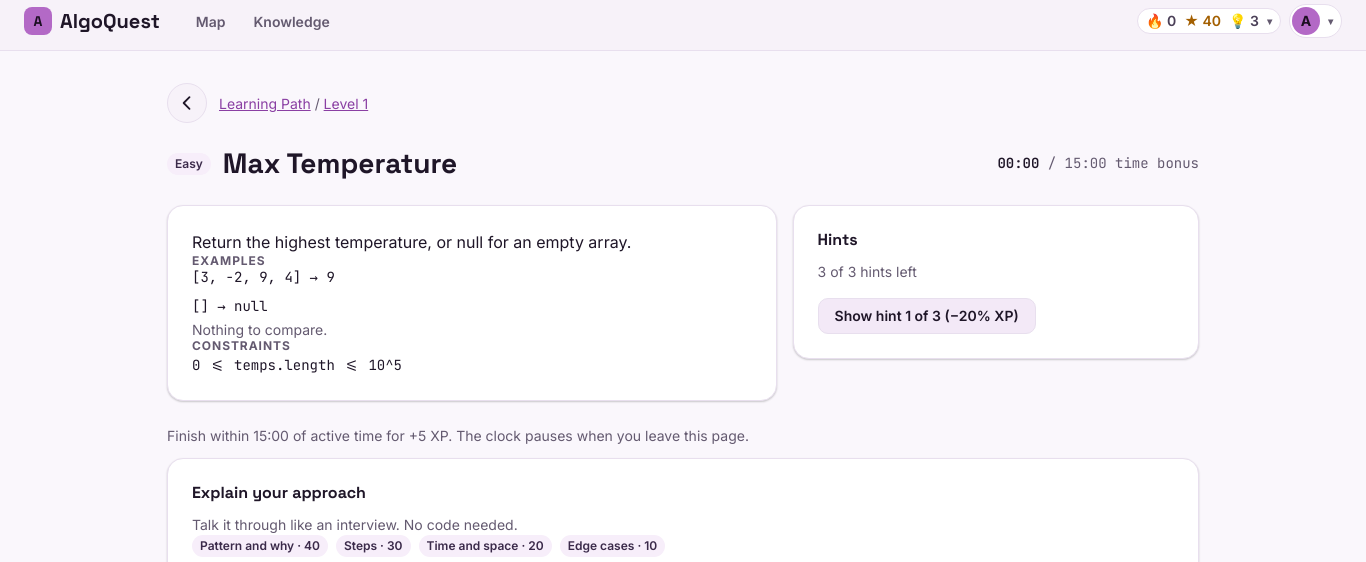
Test case: hints › opens the next hint and lowers the possible XP
Expected: the text "3 of 3 hints left" is shown, [818,263,917,280]
Expected: the text titled "Hints left" shows "3", [1250,12,1259,29]
Click the button "Show hint 1 of 3 (−20% XP)".
click(927, 316)  # box [818,298,1036,334]
(page scrolled)
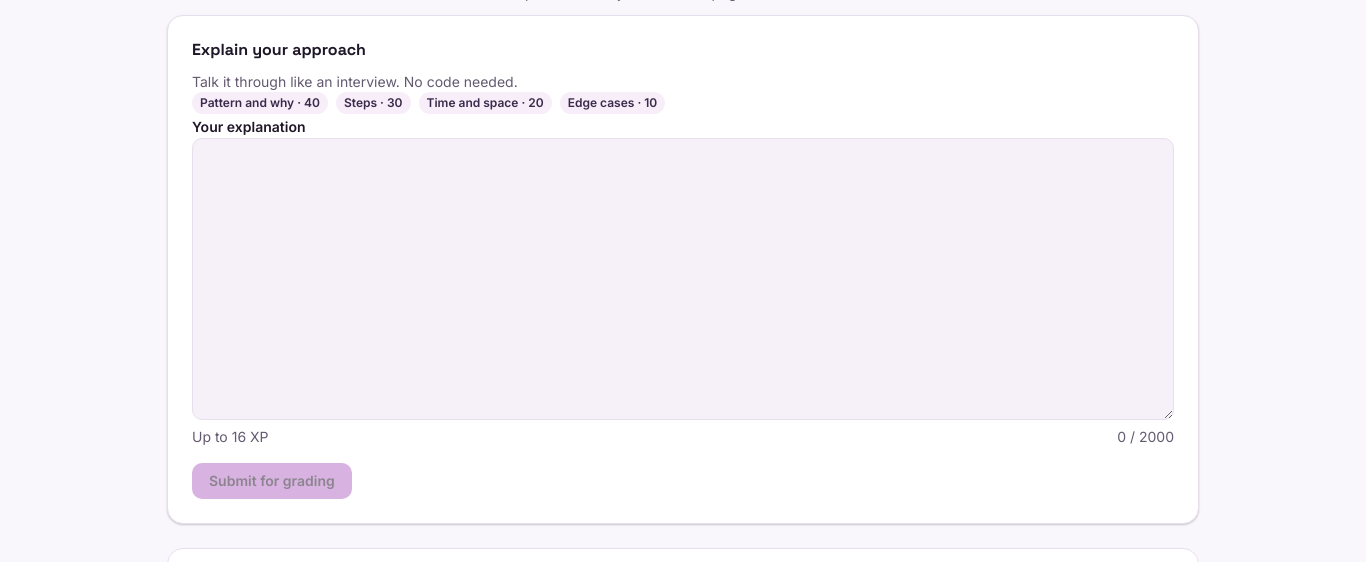
Expected: the text "Up to 16 XP" is shown, [192,426,268,447]
